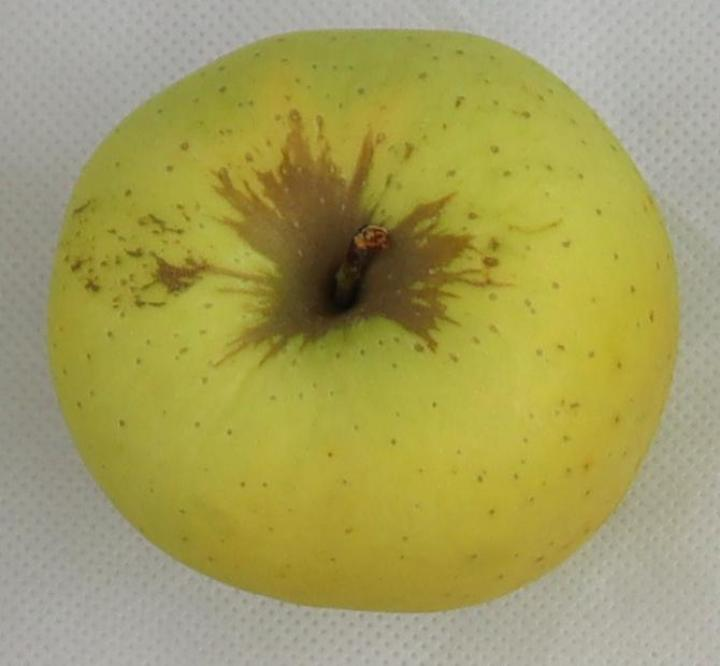apple: (49, 30, 677, 610)
bruise_discoloration: (138, 109, 490, 362)
